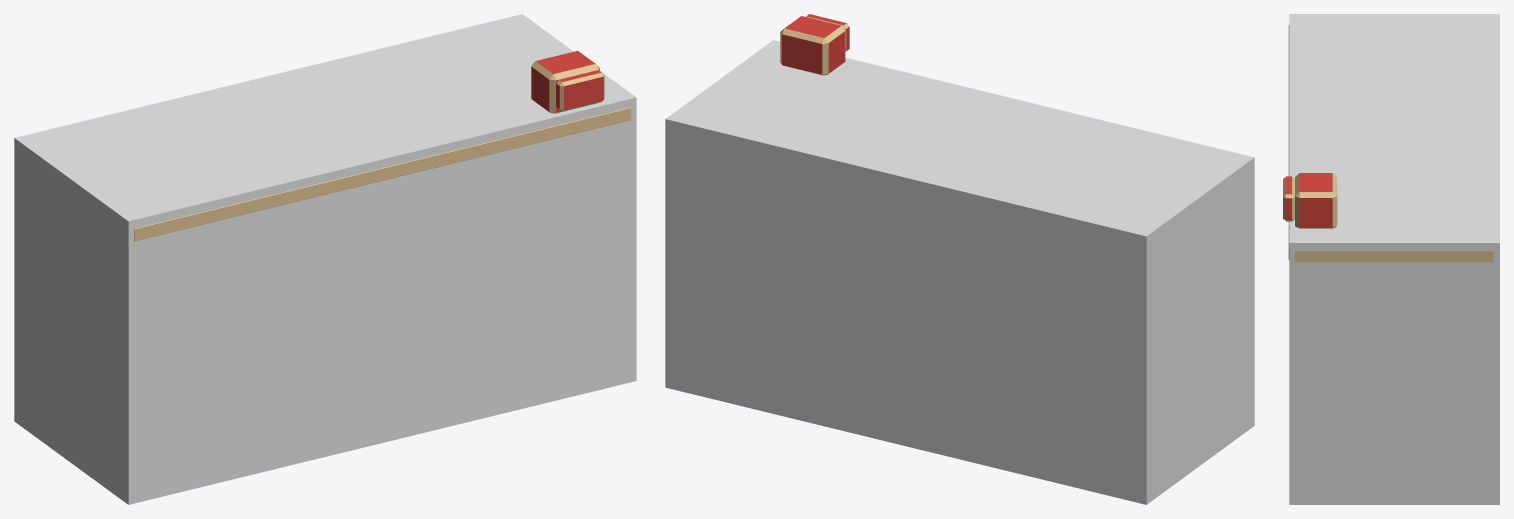
File: prop_workbench_a.glb
3 renders of one model, left to right at view 1: azimuth 30°, elevation 25°; view 2: azimuth 150°, elevation 25°; view 3: azimuth 270°, elevation 25°, orthographic. The views are drawn at different scales.
Parts seen in each view (by area): view 1: COL_prop_workbench_a_1, prop_workbench_a; view 2: COL_prop_workbench_a_1, prop_workbench_a; view 3: COL_prop_workbench_a_1, prop_workbench_a.
Boxes of the visible parts, x1,y1,x2,y2 form: COL_prop_workbench_a_1: (14,14,636,504); prop_workbench_a: (134,50,631,241); COL_prop_workbench_a_1: (665,40,1254,504); prop_workbench_a: (780,14,849,75); COL_prop_workbench_a_1: (1289,14,1499,504); prop_workbench_a: (1283,25,1493,262).
Size of the model in its own units: 1.8 by 1.09 by 0.7205.
